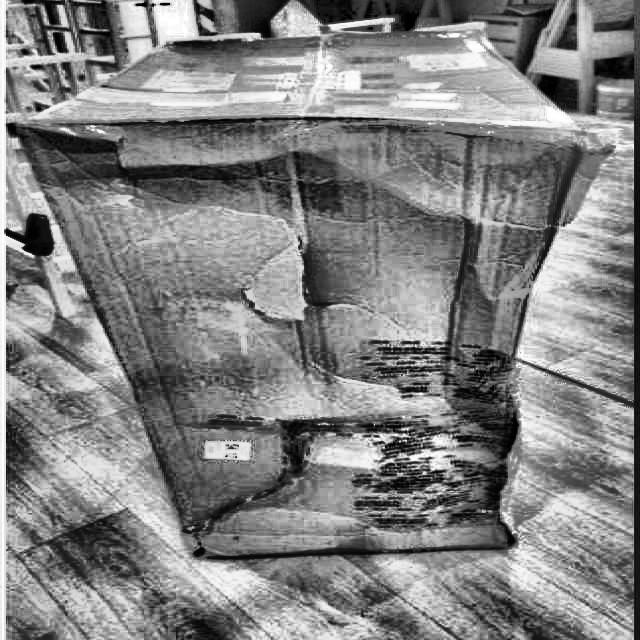box: (14, 15, 617, 565)
hole: (259, 248, 350, 320)
wet: (361, 337, 528, 550)
